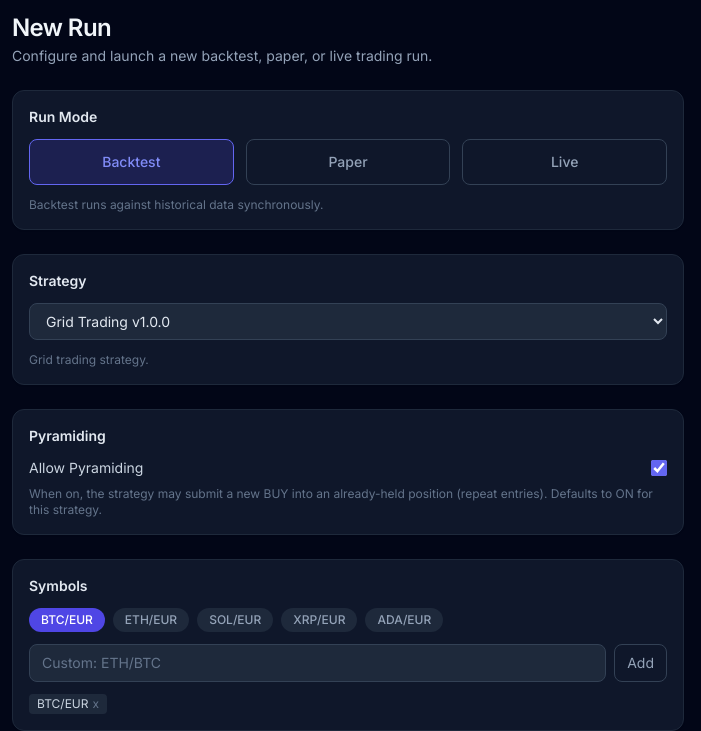
Test: NewRunPage — allowPyramiding control (SY-13a-08/09, CF-13a-1 item 4) › shows the W7 'accumulation disabled' copy for live grid_trading, and sends allowPyramiding=false
Click the radio button labelled "live" at (565, 162), box [462,139,667,185]
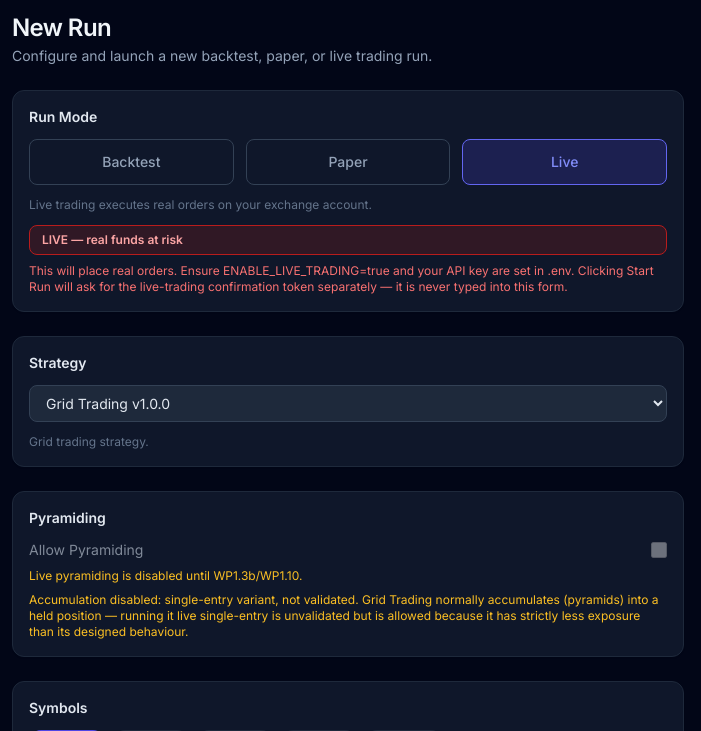
Check: the text "Accumulation disabled: single-entry variant, not validated." is shown, box [29,592,359,607]
